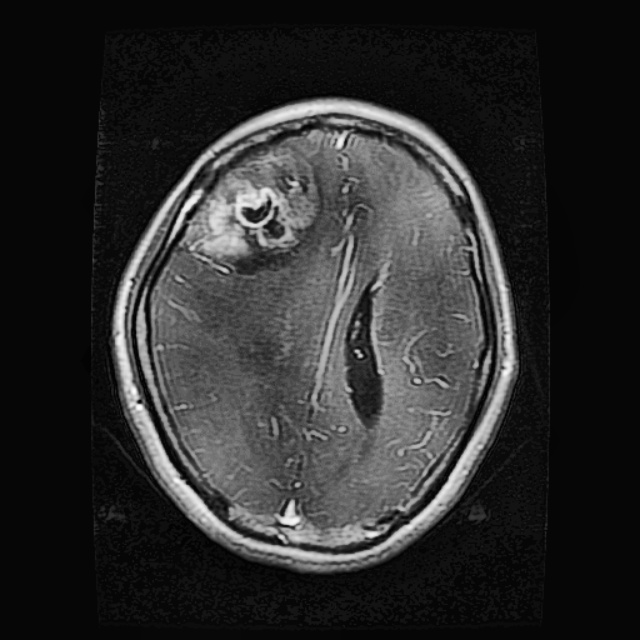Glioma: (182, 142, 322, 275)
